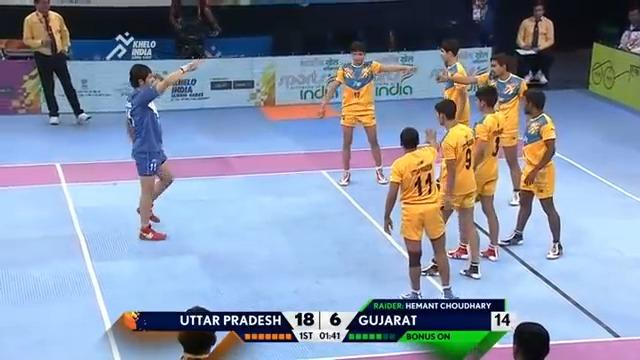Player: (317, 40, 417, 186), (435, 52, 529, 205), (383, 126, 460, 299), (497, 88, 563, 259), (420, 98, 481, 279), (434, 38, 471, 126)
Raider: (124, 57, 204, 240)
referee: (21, 0, 92, 125), (514, 2, 555, 87), (168, 0, 222, 58)
